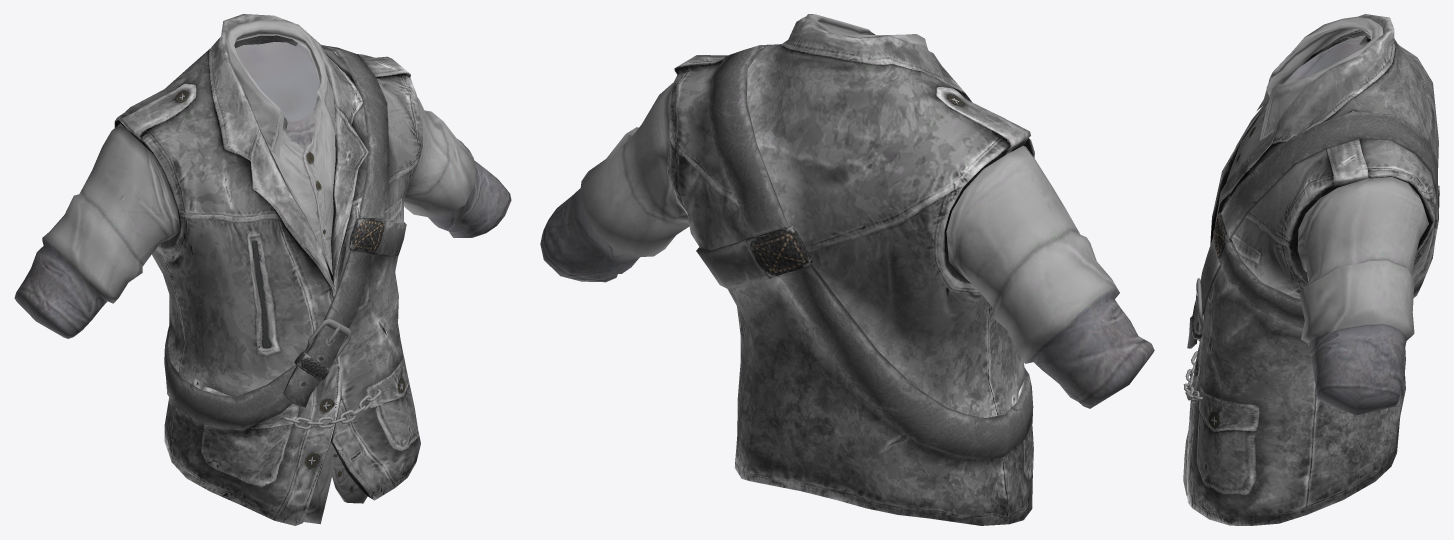
Rendered from SurvivorMale_Chest_Shirt_FlannelVestStrap_LOD0.glb.
The picture shows the model from 3 angles, left to right: view 1: azimuth 30°, elevation 25°; view 2: azimuth 150°, elevation 25°; view 3: azimuth 270°, elevation 25°; orthographic projection. The views are drawn at different scales.
Parts seen in each view (by area): view 1: Hoodie; view 2: Hoodie; view 3: Hoodie.
Boxes of the visible parts, box(x1,y1,x2,y2) form: Hoodie: box(14, 14, 511, 525); Hoodie: box(540, 14, 1154, 525); Hoodie: box(1183, 14, 1439, 525).
Size of the model in its own units: 0.8047 by 0.7 by 0.3492.
1 material, 1 textured.
